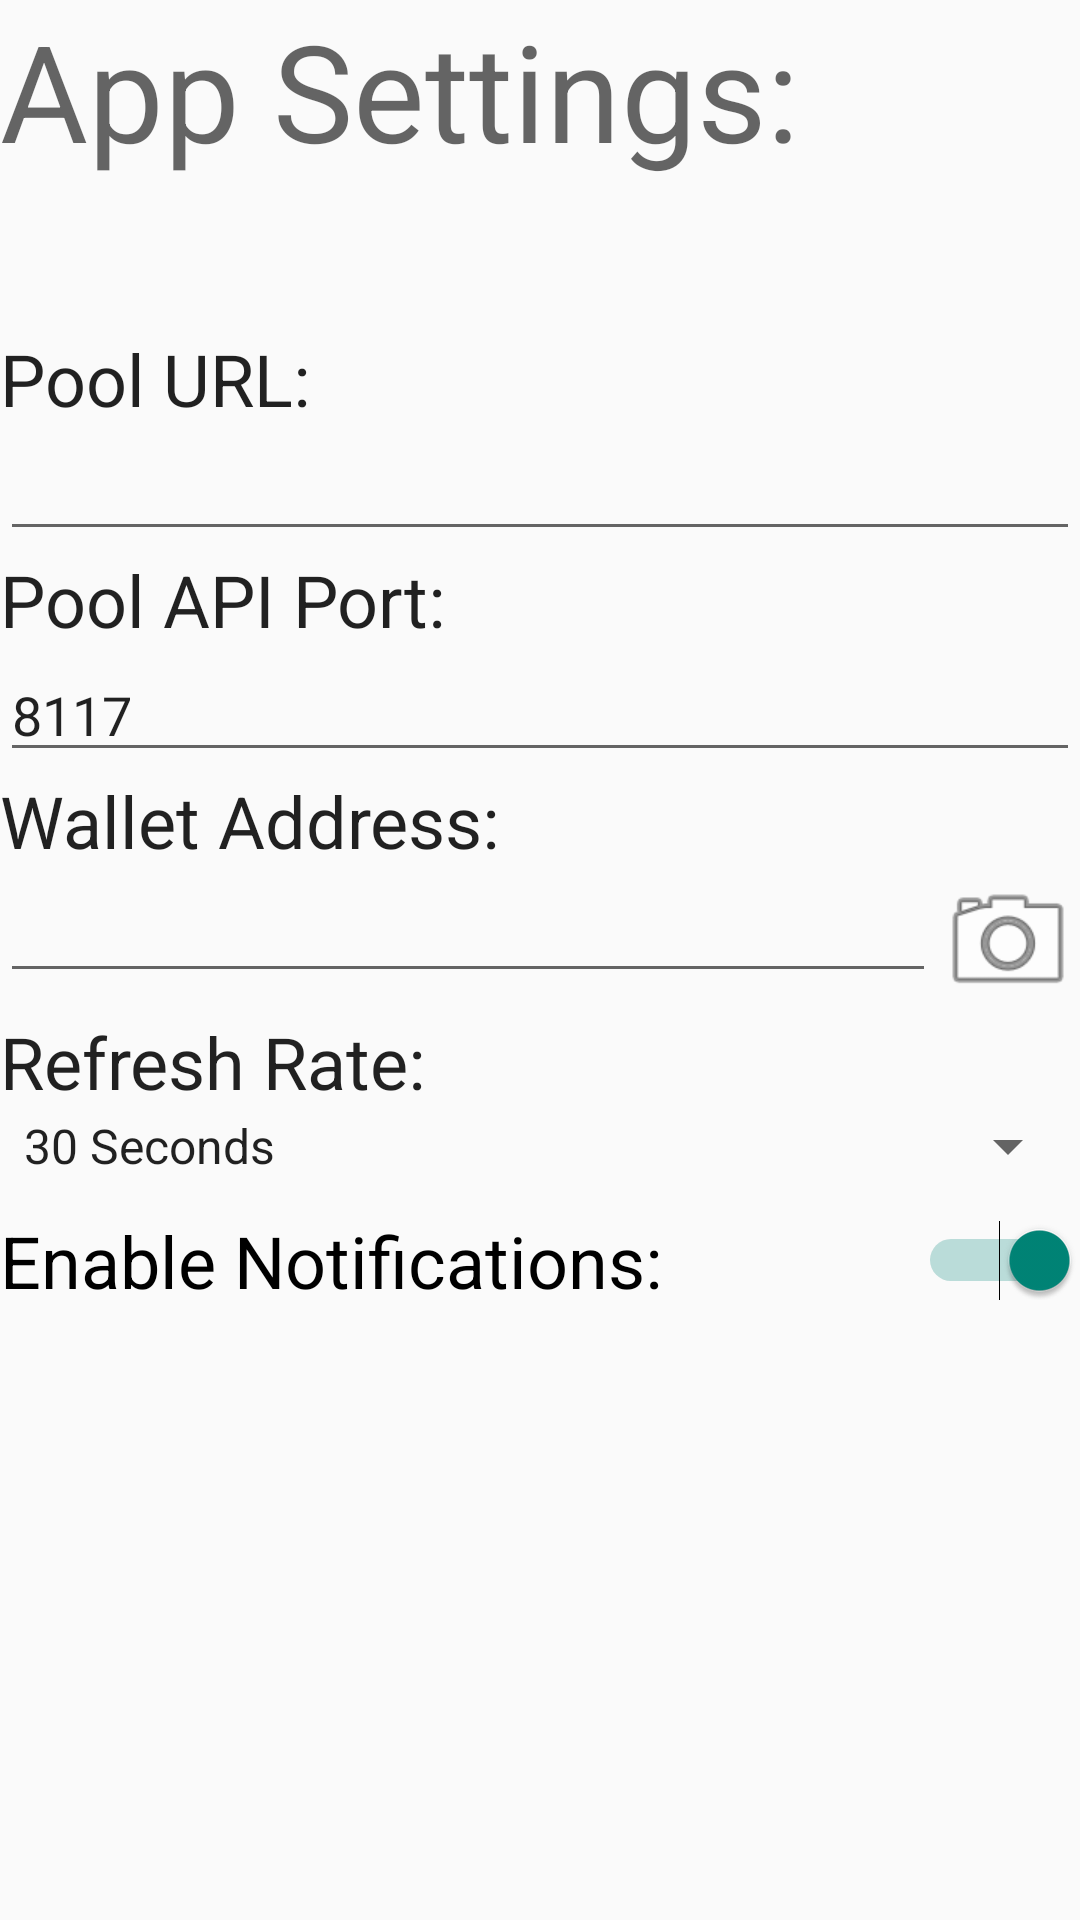

Where to tap for icons on this 1080x1920 app screen, as (x=x, y=y):
camera: (x=1008, y=938)
